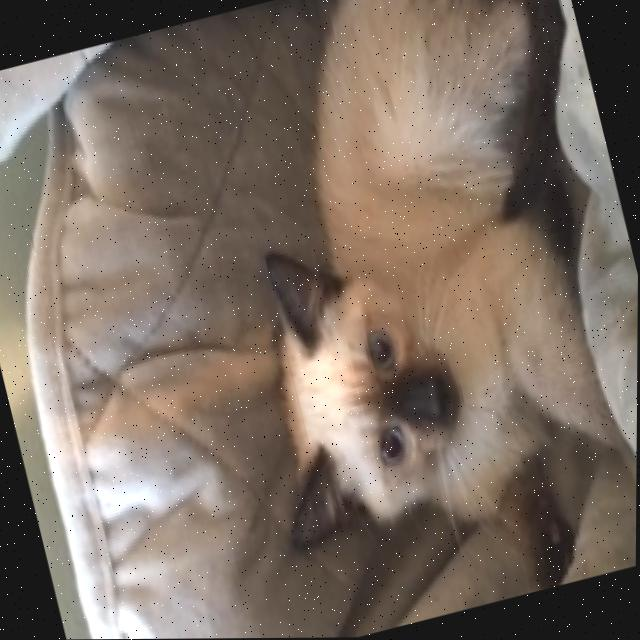Siamese: (148, 0, 640, 639)
